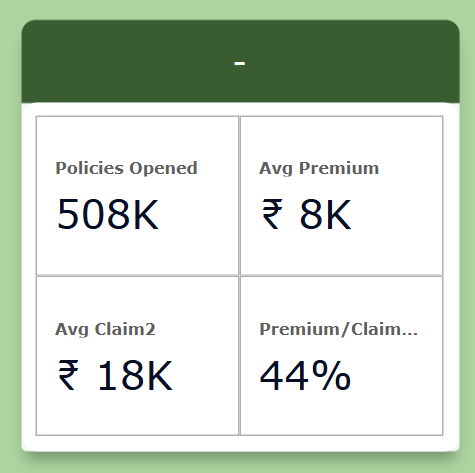

The page's visual inventory and layout, read from the dashboard file:
{"tool":"powerbi","page":{"name":"ToolTip","canvas":[320,320],"ordinal":1},"visuals":[{"type":"cardVisual","fields":{"Data":["policies.Policies Opened","policies.Avg Premium","policies.Avg Claim2","policies.Premium To Claims Ratio"]},"box":[15,69,291,233],"z":0},{"type":"card","fields":{"Values":["policies.ToolTip Header"]},"box":[22,18,276,51],"z":1000}]}

Visuals, with their boxes in screenshot pixels (x1, y1, x2, y2), scaled from the page's 320x320 canvas onto the 475x473 screenshot:
cardVisual - policies.Policies Opened x policies.Avg Premium: 22, 102, 454, 446
card - policies.ToolTip Header: 33, 27, 442, 102
